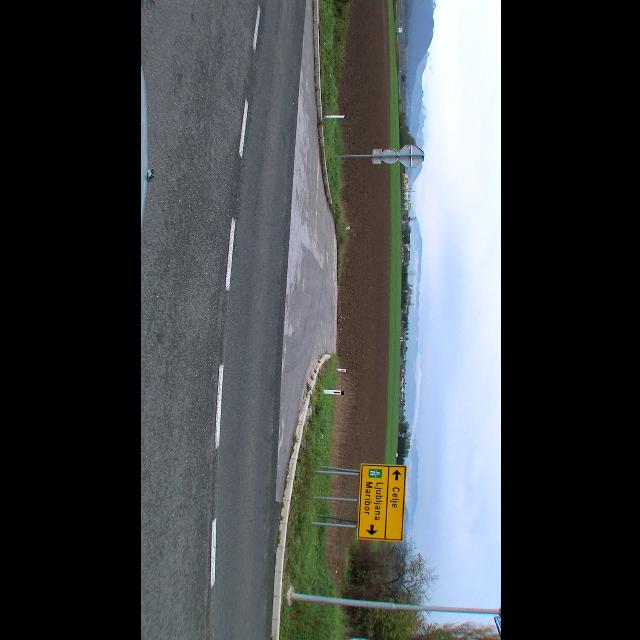Multi-inform: (356, 465, 406, 541)
